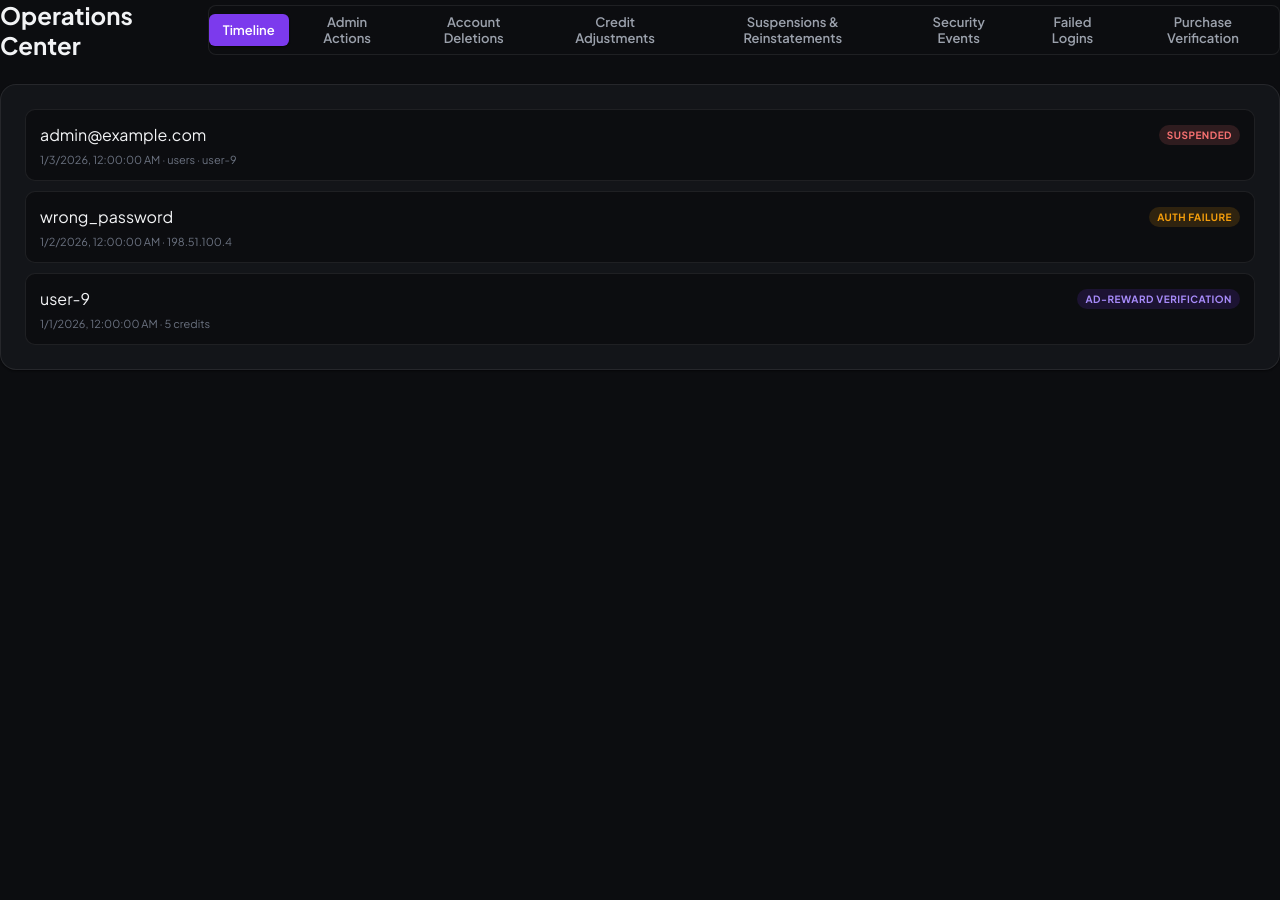
OperationsCenterPage - Security Events / Failed Logins tabs › Security Events loads with no eventType filter
What coordinates should you click on to do the following:
click the button "Security Events"
I would click on:
 (959, 30)
Its box is [899,6,1018,54].
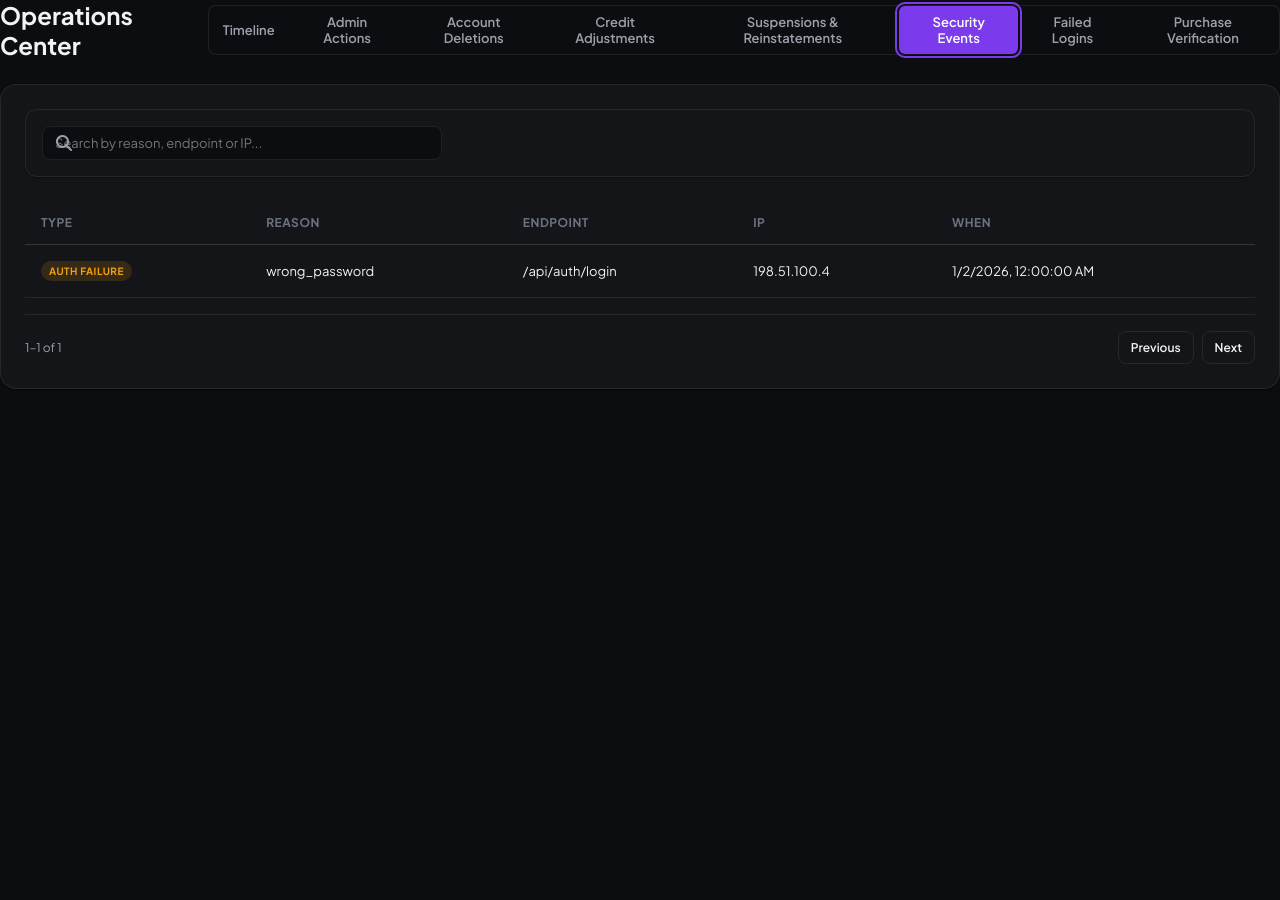
What coordinates should you click on to do the following:
click the text "wrong_password"
I would click on:
 (378, 271)
Its box is [250,244,507,298].
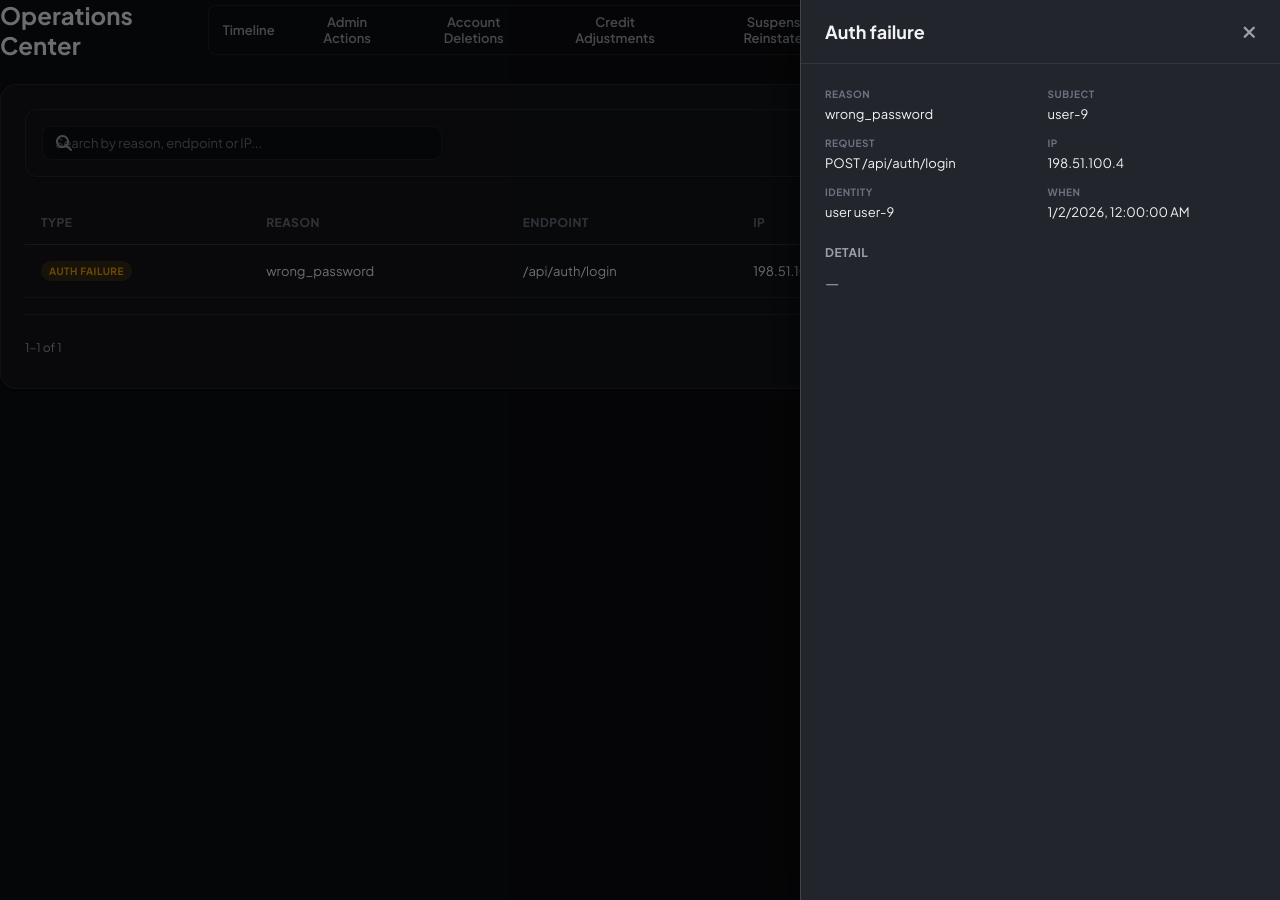
Check: the text "198.51.100.4" is shown, box [1048,155,1124,171]
